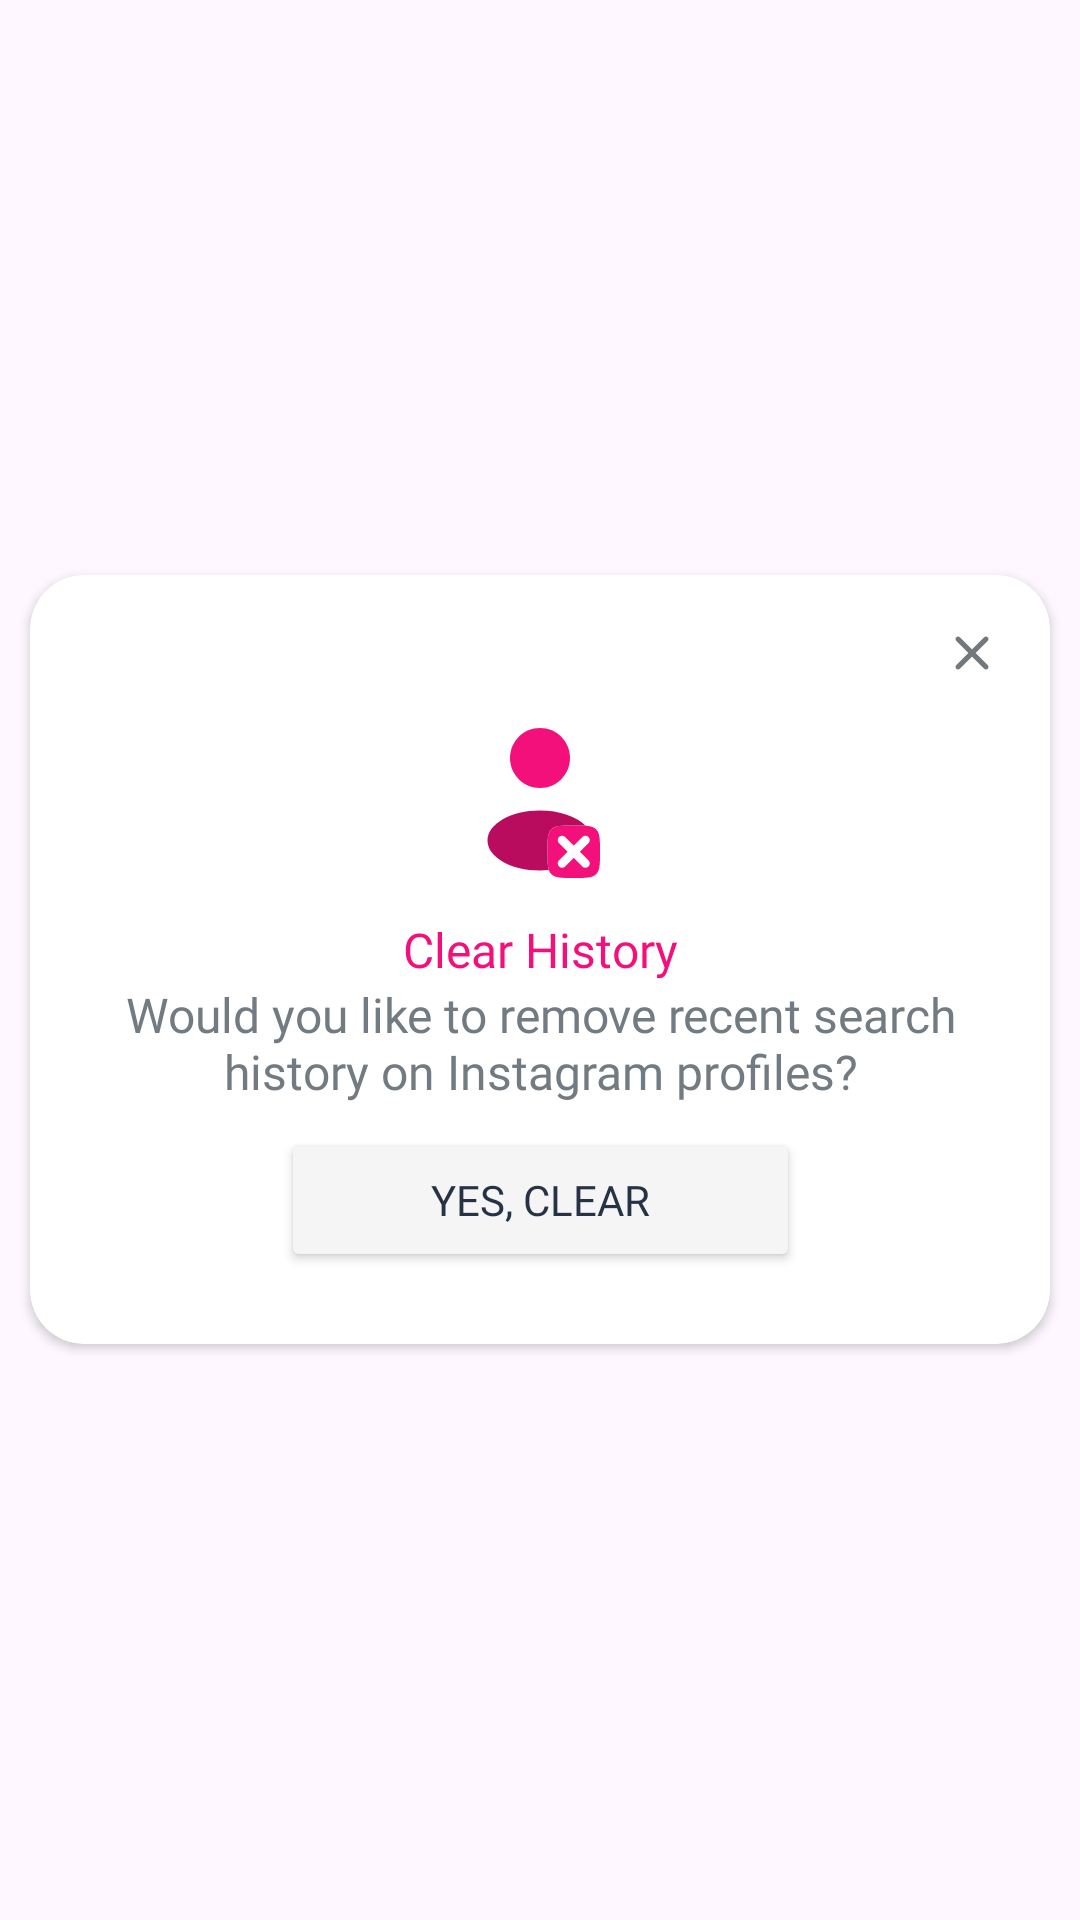

Where to tap for icons on this 1080px x 1920px app screen, as point (x, y):
close: point (972, 653)
